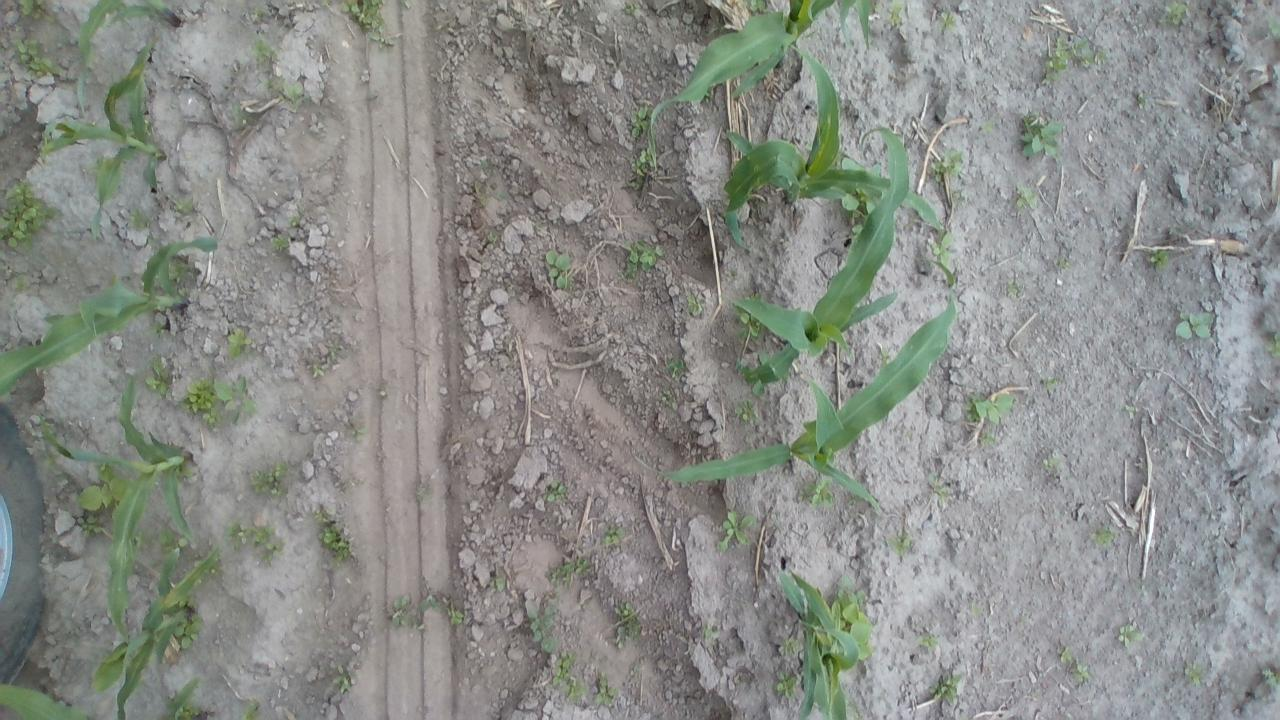Maize: (657, 258, 955, 506), (734, 125, 910, 384), (724, 44, 944, 246), (33, 377, 193, 633), (644, 0, 871, 170), (1, 235, 219, 396), (39, 34, 169, 240), (90, 542, 214, 720), (74, 1, 186, 122), (774, 563, 858, 720), (0, 680, 84, 720), (158, 679, 198, 720)
Weeds: (0, 175, 60, 246), (219, 520, 282, 564), (1043, 37, 1103, 76), (348, 0, 396, 47), (74, 466, 125, 510), (620, 239, 672, 282), (834, 584, 878, 634), (1016, 113, 1061, 161), (314, 504, 353, 559), (548, 650, 588, 696), (183, 378, 219, 429), (385, 594, 437, 628), (715, 512, 755, 554), (15, 37, 56, 77), (924, 144, 966, 183), (528, 601, 560, 652), (248, 460, 290, 498), (970, 390, 1016, 423), (218, 377, 258, 414), (548, 558, 596, 586), (613, 604, 641, 652), (144, 357, 178, 396), (1176, 309, 1214, 342), (544, 251, 576, 289), (931, 671, 965, 705), (1056, 642, 1086, 680), (802, 476, 832, 510), (1115, 619, 1147, 650), (303, 348, 335, 377), (626, 147, 648, 188), (1084, 522, 1116, 550), (931, 232, 956, 264), (15, 0, 47, 24), (839, 196, 873, 218), (334, 664, 360, 692), (225, 327, 247, 360), (276, 76, 308, 98), (1164, 0, 1191, 26), (889, 532, 918, 556), (172, 622, 202, 645), (594, 677, 616, 708), (71, 514, 102, 535), (124, 204, 150, 229), (1016, 184, 1040, 211), (154, 526, 182, 549), (628, 104, 646, 137), (926, 479, 954, 500), (174, 195, 202, 216), (774, 673, 799, 696), (1181, 661, 1207, 683), (1041, 447, 1062, 474), (740, 312, 760, 340), (347, 417, 369, 442), (250, 38, 273, 61), (1150, 248, 1170, 274), (602, 524, 630, 542), (416, 477, 436, 502), (1264, 330, 1280, 360), (916, 629, 941, 648), (230, 102, 244, 132), (664, 356, 686, 375), (545, 483, 567, 502), (1006, 276, 1026, 296), (980, 116, 999, 137), (273, 230, 291, 252), (688, 288, 702, 316), (856, 636, 872, 660), (747, 0, 771, 16), (887, 1, 903, 25), (938, 13, 957, 32), (738, 402, 758, 420), (142, 320, 164, 336), (240, 704, 262, 720), (38, 140, 54, 162), (1261, 664, 1280, 682), (446, 604, 465, 622), (488, 576, 508, 592), (1133, 92, 1150, 110), (1055, 254, 1072, 272), (700, 627, 720, 641), (178, 704, 198, 718), (778, 639, 798, 653), (969, 600, 984, 616), (1270, 14, 1280, 38), (1042, 376, 1058, 390), (620, 0, 634, 14), (250, 6, 264, 19), (978, 435, 996, 445), (290, 214, 300, 228)
